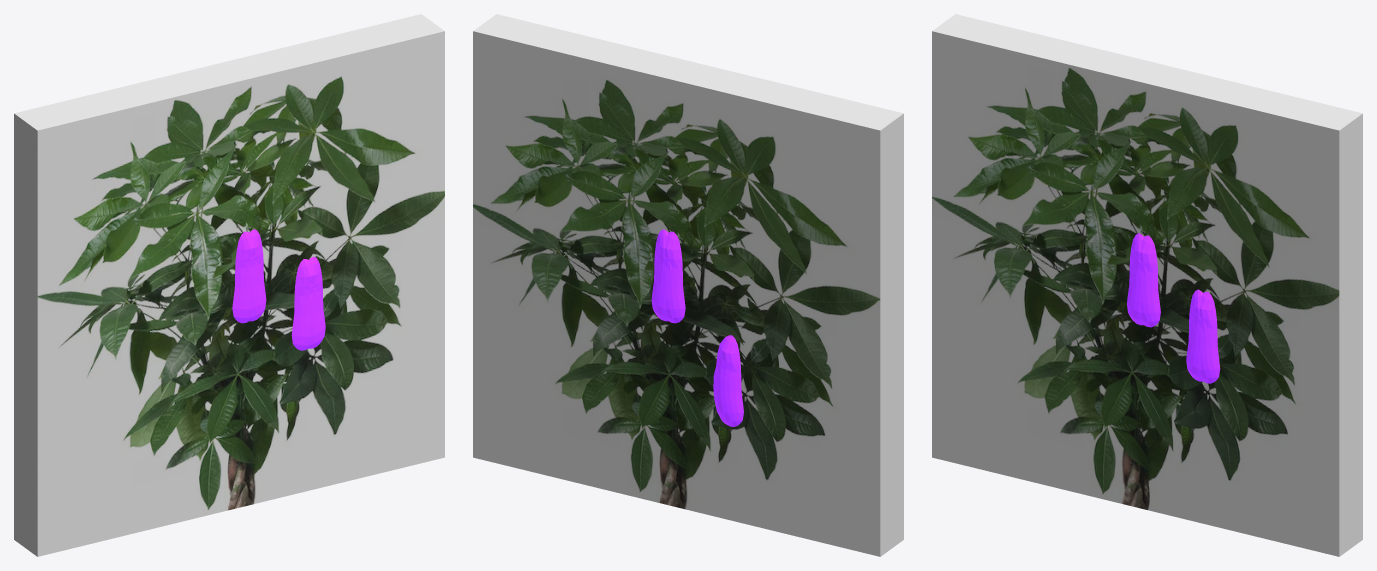
The model's file is eggplant_5.dae.
The picture shows the model from 3 angles, left to right: view 1: azimuth 30°, elevation 25°; view 2: azimuth 150°, elevation 25°; view 3: azimuth 330°, elevation 25°; orthographic projection.
Visible parts, largest first — view 1: Cube, Sphere, Sphere.001; view 2: Cube, Sphere, Sphere.002; view 3: Cube, Sphere, Sphere.001.
Part boxes in pixels (<box>): Cube: <box>14,14,444,556</box>; Sphere: <box>232,229,266,323</box>; Sphere.001: <box>291,256,325,350</box>; Cube: <box>473,14,903,556</box>; Sphere: <box>651,229,685,323</box>; Sphere.002: <box>713,335,743,426</box>; Cube: <box>932,14,1362,556</box>; Sphere: <box>1127,233,1160,327</box>; Sphere.001: <box>1186,289,1220,383</box>.
Bounding box in the file's own units: 1 × 0.1301 × 1.
Materials: 2 (1 with a texture image).
